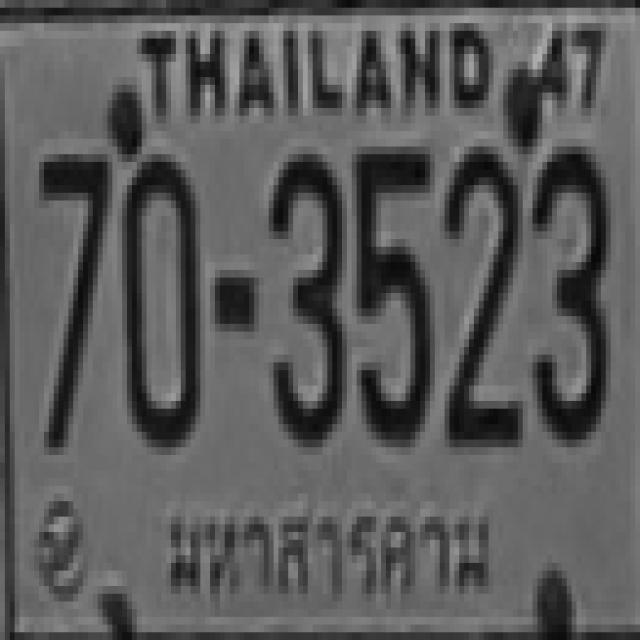0: (118, 154, 196, 440)
2: (440, 143, 518, 443)
3: (528, 142, 606, 436), (269, 146, 342, 440)
5: (352, 139, 430, 439)
7: (34, 147, 108, 447)
MahaSarakham: (155, 486, 496, 610)
